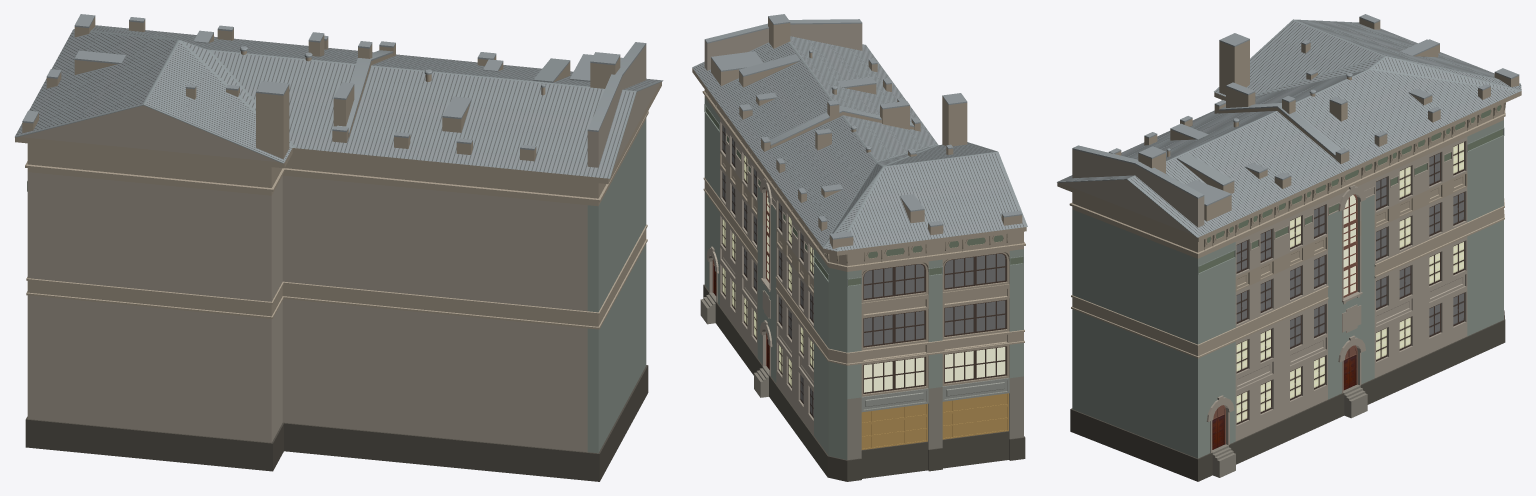
File: HouseForStreet12.fbx
The picture shows the model from 3 angles, left to right: view 1: azimuth 30°, elevation 25°; view 2: azimuth 150°, elevation 25°; view 3: azimuth 270°, elevation 25°; orthographic projection. The views are drawn at different scales.
Visible parts, largest first — view 1: 01080-50@72761; view 2: 01080-50@72761; view 3: 01080-50@72761.
Part boxes in pixels (left/top/right/bottom): 01080-50@72761: left=15, top=14, right=663, bottom=481; 01080-50@72761: left=692, top=14, right=1027, bottom=481; 01080-50@72761: left=1057, top=14, right=1521, bottom=481.
Size of the model in its own units: 38.49 by 25.31 by 35.19.
1 material, 1 textured.
